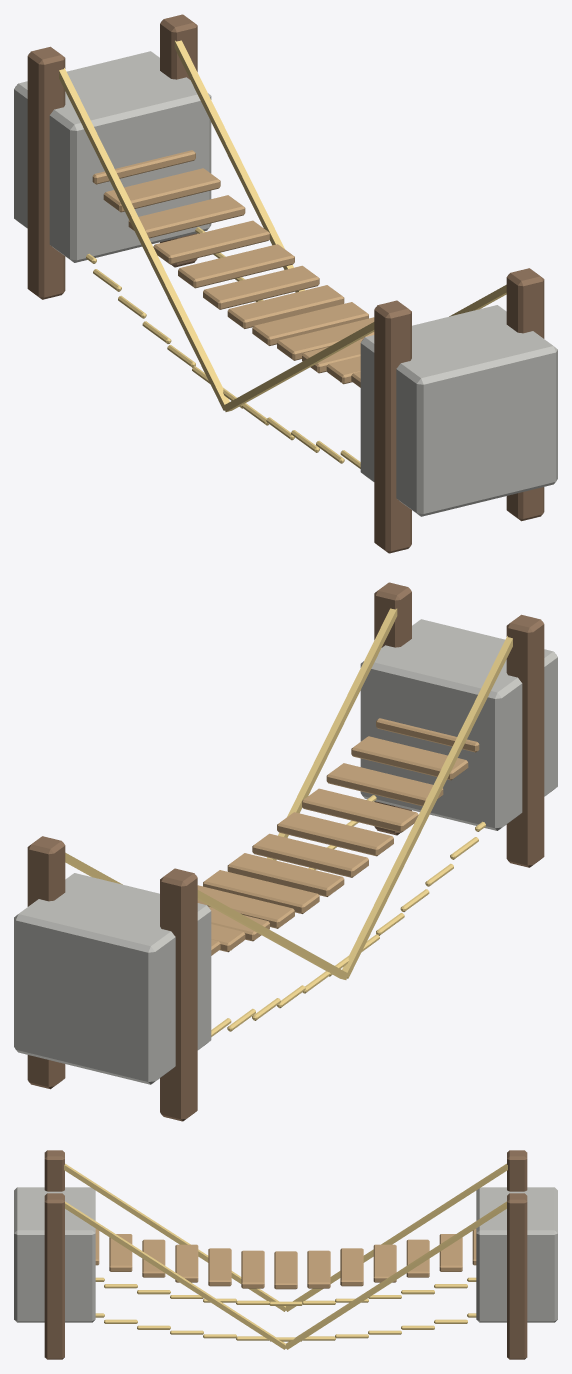
The model's file is town_rope_bridge.glb.
3 views of the same model, one above another, from view 1: azimuth 30°, elevation 25°; view 2: azimuth 150°, elevation 25°; view 3: azimuth 270°, elevation 25° (orthographic). The views are drawn at different scales.
Parts seen in each view (by area): view 1: world; view 2: world; view 3: world.
Part boxes in pixels (x1,y1,x2,y2): world: (14,14,557,553); world: (14,582,557,1121); world: (14,1150,557,1359).
Size of the model in its own units: 0.45 by 0.65 by 2.
